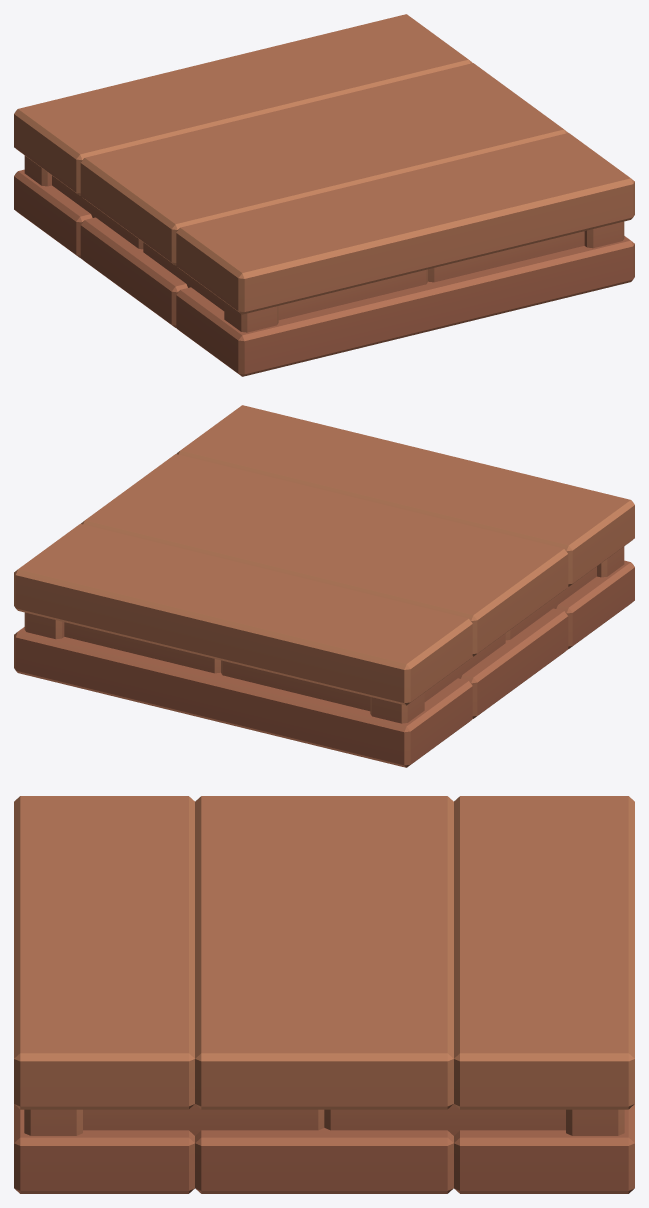
The model's file is floor-wood-2x2.glb.
3 views of the same model, one above another, from view 1: azimuth 30°, elevation 25°; view 2: azimuth 150°, elevation 25°; view 3: azimuth 270°, elevation 25° (orthographic). The views are drawn at different scales.
Visible parts, largest first — view 1: floor_wood_2x2; view 2: floor_wood_2x2; view 3: floor_wood_2x2.
Boxes of the visible parts, left/top/right/bottom form: floor_wood_2x2: left=14, top=14, right=634, bottom=376; floor_wood_2x2: left=14, top=405, right=634, bottom=767; floor_wood_2x2: left=14, top=796, right=634, bottom=1193.
Size of the model in its own units: 2 by 0.5 by 2.
Materials: 1 (1 with a texture image).
